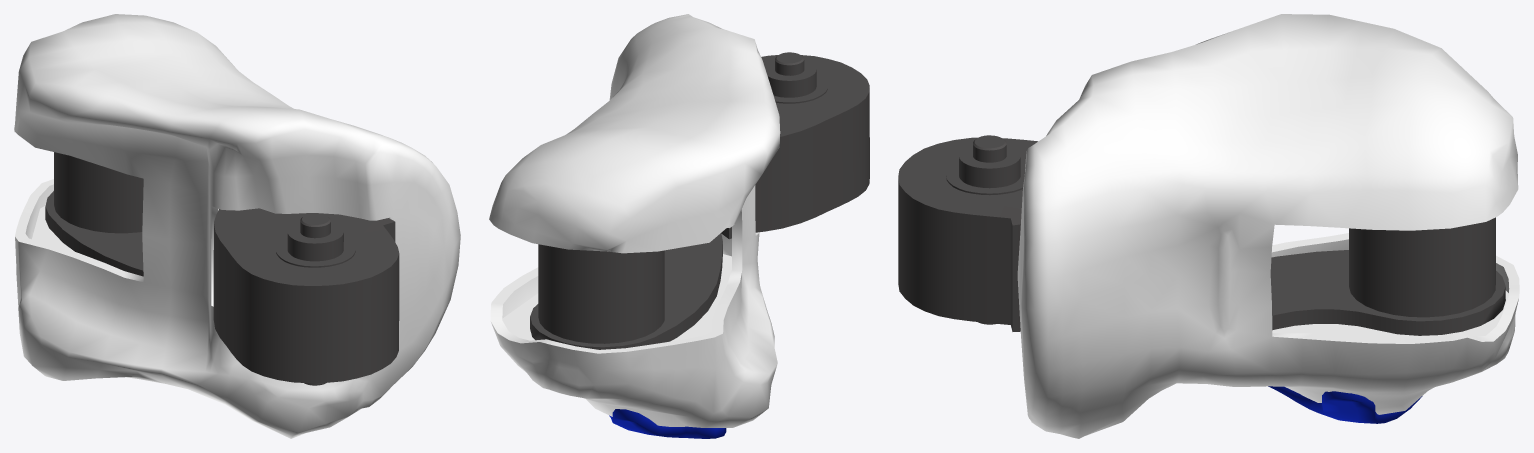
File: RKneePitch.dae
3 renders of one model, left to right at view 1: azimuth 30°, elevation 25°; view 2: azimuth 150°, elevation 25°; view 3: azimuth 270°, elevation 25°, orthographic. The views are drawn at different scales.
Visible parts, largest first — view 1: RKneePitch; view 2: RKneePitch; view 3: RKneePitch.
Boxes of the visible parts, x1,y1,x2,y2 form: RKneePitch: [14, 14, 460, 438]; RKneePitch: [489, 14, 869, 438]; RKneePitch: [898, 14, 1519, 438].
Bounding box in the file's own units: 0.8968 × 0.9329 × 1.48.
1 material, 1 textured.
